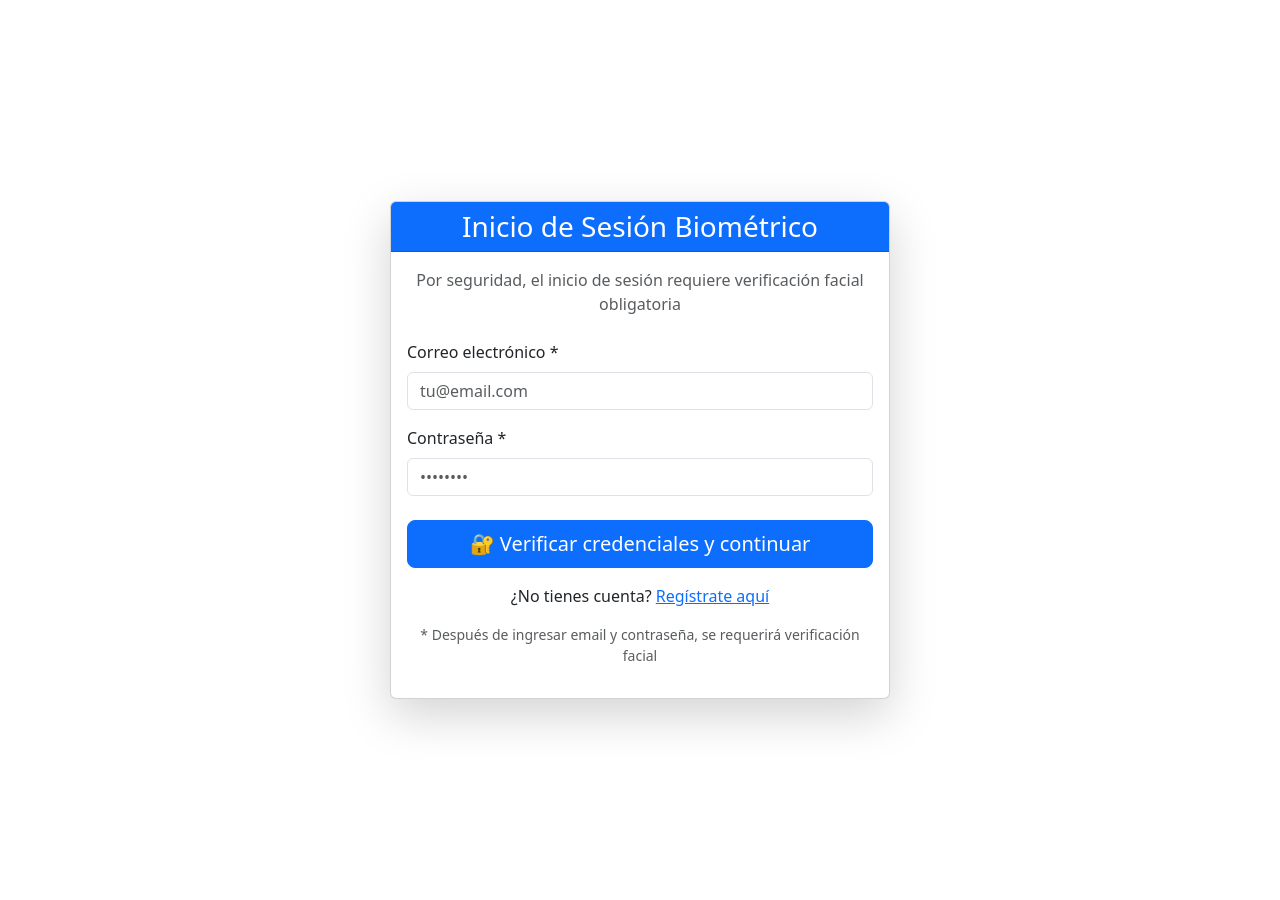
Test: Login component › muestra mensaje de error si faltan credenciales
The image size is (1280, 900).
Click the button "🔐 Verificar credenciales y continuar".
click(640, 544)  # box x1=407 y1=520 x2=873 y2=568
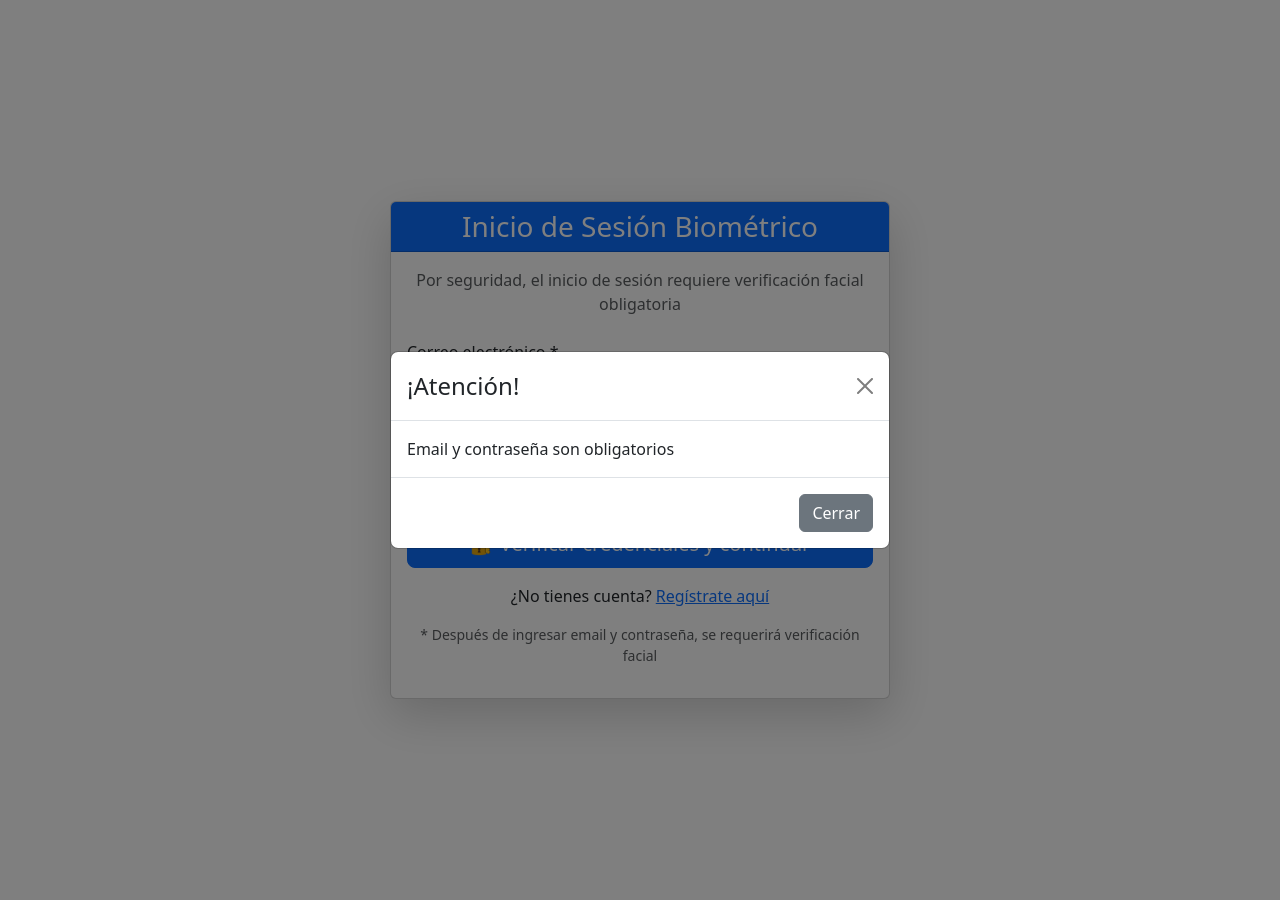
Expected: the text "Email y contraseña son obligatorios" is shown, x1=407 y1=438 x2=674 y2=460
